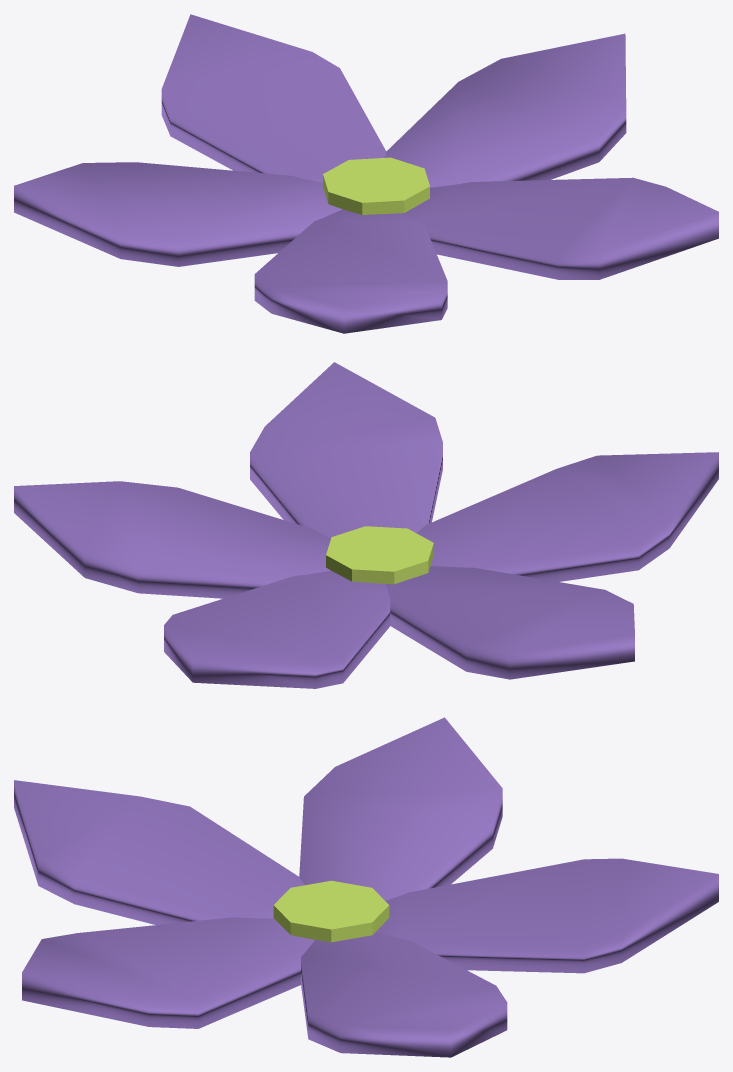
The model's file is Flower_Purple_5.fbx.
3 views of the same model, one above another, from view 1: azimuth 30°, elevation 25°; view 2: azimuth 150°, elevation 25°; view 3: azimuth 270°, elevation 25° (orthographic). The views are drawn at different scales.
Visible parts, largest first — view 1: Cube.105, Cylinder.635; view 2: Cube.105, Cylinder.635; view 3: Cube.105, Cylinder.635.
Part boxes in pixels (x1,y1,x2,y2): Cube.105: (14, 14, 718, 333); Cylinder.635: (323, 157, 429, 214); Cube.105: (14, 362, 718, 688); Cylinder.635: (326, 526, 433, 584); Cube.105: (14, 717, 718, 1057); Cylinder.635: (273, 880, 389, 942).
Size of the model in its own units: 71.56 by 7.88 by 68.25.
